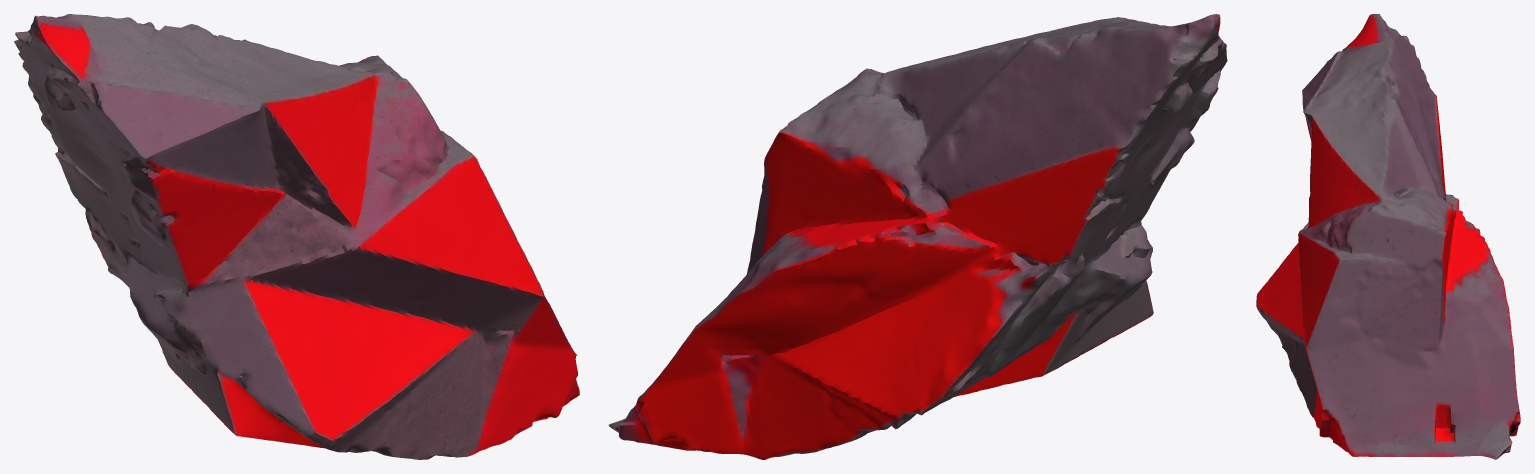
The model's file is red-dust-fragment.glb.
The picture shows the model from 3 angles, left to right: view 1: azimuth 30°, elevation 25°; view 2: azimuth 150°, elevation 25°; view 3: azimuth 270°, elevation 25°; orthographic projection. The views are drawn at different scales.
Visible parts, largest first — view 1: output; view 2: output; view 3: output.
Part boxes in pixels (x1,y1,x2,y2): output: [14, 14, 579, 459]; output: [608, 14, 1227, 459]; output: [1256, 14, 1520, 459].
Bounding box in the file's own units: 1.91 × 1.66 × 1.37.
1 material, 1 textured.
